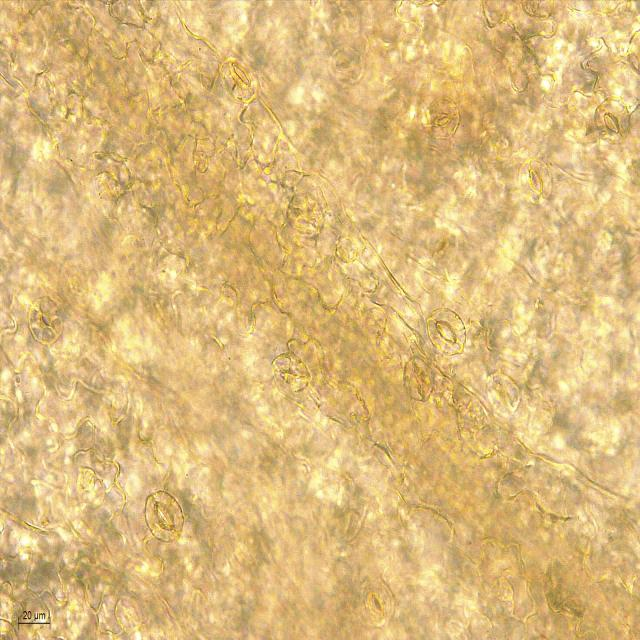Stomata: (143, 488, 186, 546), (218, 54, 262, 108), (425, 305, 469, 357), (26, 292, 68, 346), (356, 577, 397, 632), (286, 189, 326, 242), (270, 350, 313, 394), (594, 96, 632, 145), (517, 157, 554, 207), (424, 95, 463, 142), (484, 371, 522, 419), (326, 43, 367, 86), (400, 355, 436, 403)
